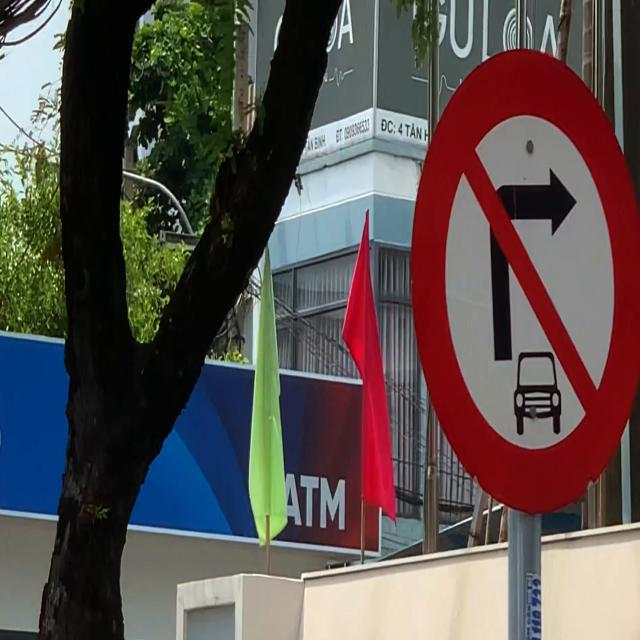Cam re phai: (408, 44, 640, 519)
